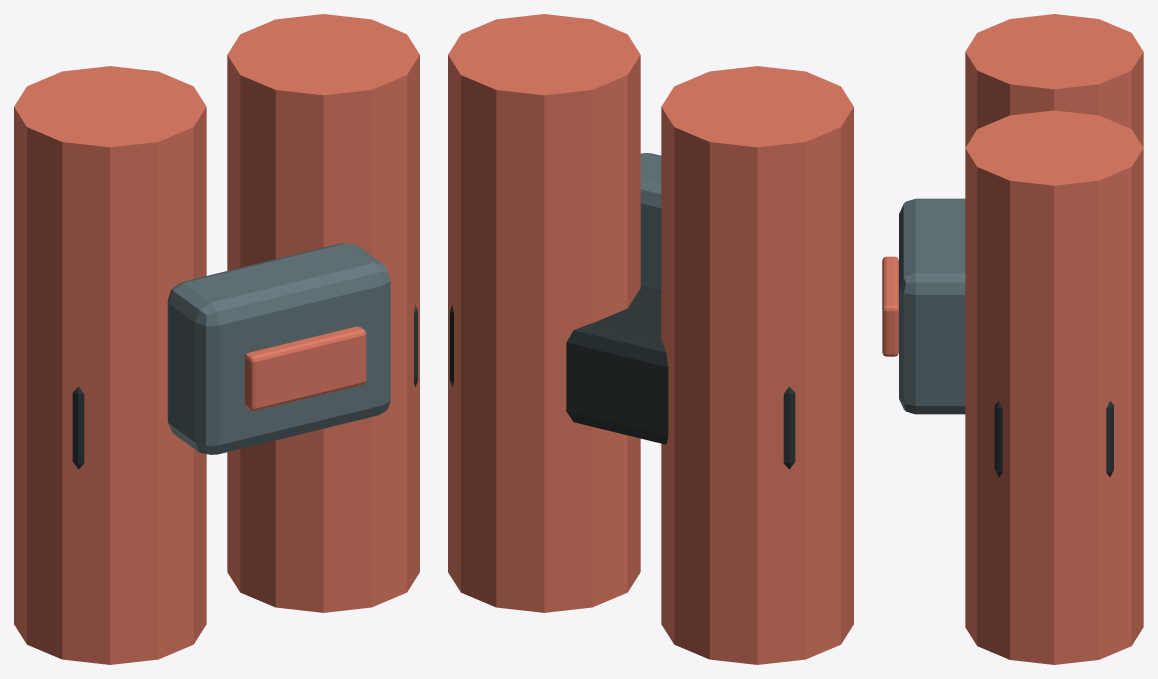
Rendered from bomb.glb.
The picture shows the model from 3 angles, left to right: view 1: azimuth 30°, elevation 25°; view 2: azimuth 150°, elevation 25°; view 3: azimuth 270°, elevation 25°; orthographic projection. The views are drawn at different scales.
Parts seen in each view (by area): view 1: Charge, Charge.001, Timer, Timer light, Charge strap; view 2: Charge, Charge.001, Charge strap, Timer; view 3: Charge.001, Charge, Timer, Timer light, Charge strap.
Boxes of the visible parts, x1,y1,x2,y2 form: Charge: (14, 66, 206, 664); Charge.001: (227, 14, 419, 612); Timer: (167, 243, 390, 454); Timer light: (244, 326, 366, 410); Charge strap: (72, 305, 417, 469); Charge: (661, 66, 853, 664); Charge.001: (448, 14, 640, 612); Charge strap: (450, 286, 795, 469); Timer: (640, 153, 661, 290); Charge.001: (965, 110, 1143, 664); Charge: (965, 14, 1143, 147); Timer: (899, 198, 965, 414); Timer light: (882, 256, 898, 356); Charge strap: (994, 401, 1113, 477).
Bounding box in the file's own units: 0.196 × 0.255 × 0.126.
